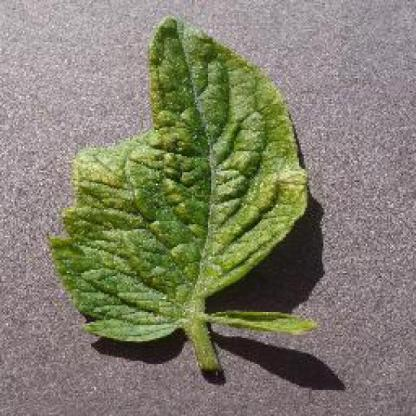Tomato_Spider_Mites: (52, 17, 320, 339)
